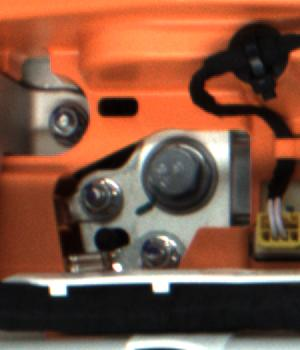nut_b: (135, 129, 222, 218)
screw_s: (136, 224, 178, 271), (77, 176, 123, 215), (42, 102, 83, 141)
